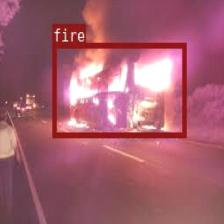fire: (52, 41, 185, 136)
